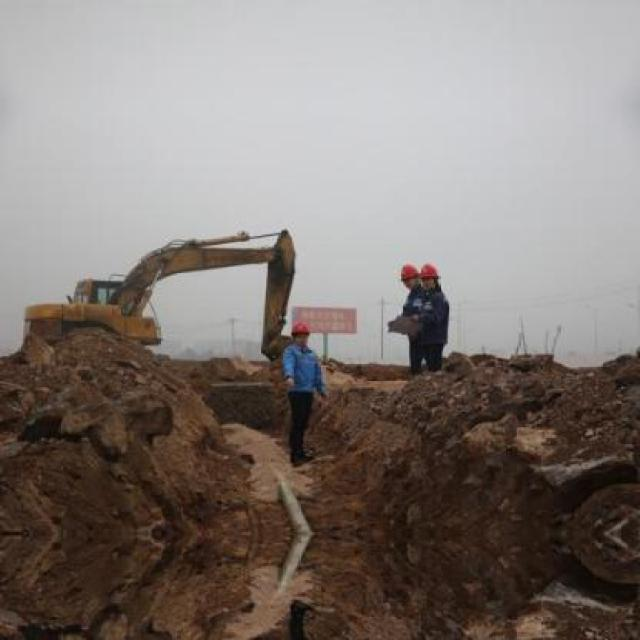helmet: (418, 262, 440, 290), (397, 261, 418, 290), (288, 318, 309, 346)
